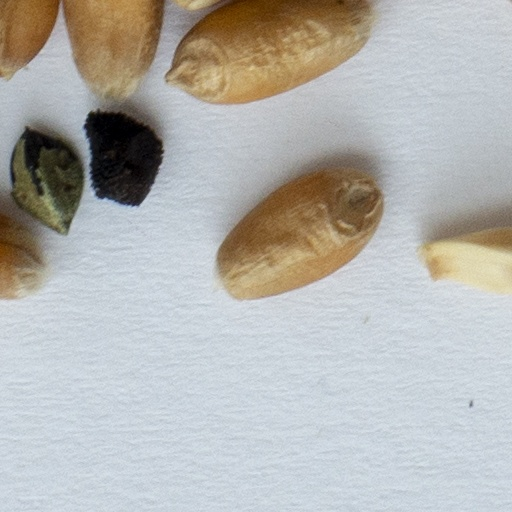Agrostemma-poly: (83, 106, 161, 206)
Fallopia-Convolvulus-poly: (12, 128, 81, 233)
